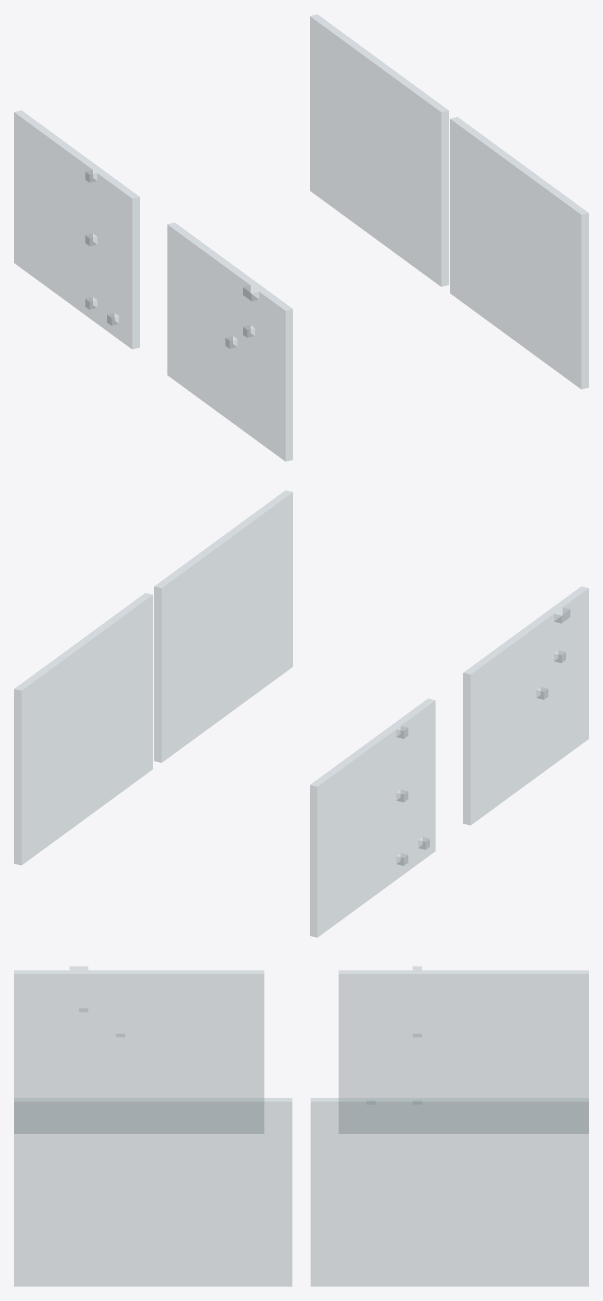
File: military_ambulance_windscreen.glb
3 renders of one model, top to bottom at view 1: azimuth 30°, elevation 25°; view 2: azimuth 150°, elevation 25°; view 3: azimuth 270°, elevation 25°, orthographic. The views are drawn at different scales.
Parts seen in each view (by area): view 1: body:compound; view 2: body:compound; view 3: body:compound.
Part boxes in pixels (box(x1,y1,x2,y2)): body:compound: box(14, 14, 588, 461); body:compound: box(14, 490, 588, 937); body:compound: box(14, 966, 588, 1286).
Bounding box in the file's own units: 1.28 × 0.6875 × 1.94.
